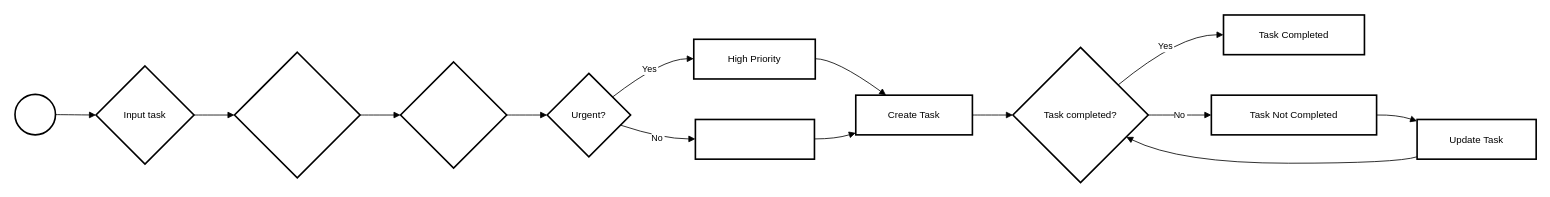
Image size: 1550x197. Some labels were removed from this diagram. Each missing label, with the box of its shape:
Input due date: (233, 51, 360, 178)
Low Priority: (694, 118, 815, 160)
Set priority: (399, 61, 507, 168)
Start: (14, 93, 56, 135)
